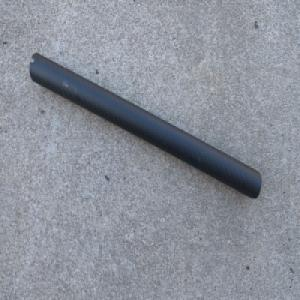LuggagePart: (28, 51, 263, 202)
